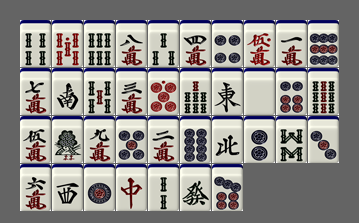0m: (244, 20, 275, 67)
0p: (148, 68, 179, 115)
0s: (52, 20, 83, 67)
1m: (276, 20, 307, 67)
1p: (84, 164, 115, 211)
1s: (52, 116, 83, 163)
1z: (212, 68, 243, 115)
2m: (148, 116, 179, 163)
2p: (244, 116, 275, 163)
2s: (148, 164, 179, 211)
2z: (52, 68, 83, 115)
3m: (116, 68, 147, 115)
3p: (308, 116, 339, 163)
3s: (148, 20, 179, 67)
3z: (52, 164, 83, 211)
4m: (180, 20, 211, 67)
4p: (212, 20, 243, 67)
4s: (20, 20, 51, 67)
4z: (212, 116, 243, 163)
5m: (20, 116, 51, 163)
5p: (116, 116, 147, 163)
5s: (84, 68, 115, 115)
5z: (244, 68, 275, 115)
6m: (20, 164, 51, 211)
6p: (276, 68, 307, 115)
6s: (84, 20, 115, 67)
6z: (180, 164, 211, 211)
7m: (20, 68, 51, 115)
7p: (212, 164, 243, 211)
7s: (180, 68, 211, 115)
7z: (116, 164, 147, 211)
8m: (116, 20, 147, 67)
8p: (180, 116, 211, 163)
8s: (276, 116, 307, 163)
9m: (84, 116, 115, 163)
9p: (308, 20, 339, 67)
9s: (308, 68, 339, 115)
